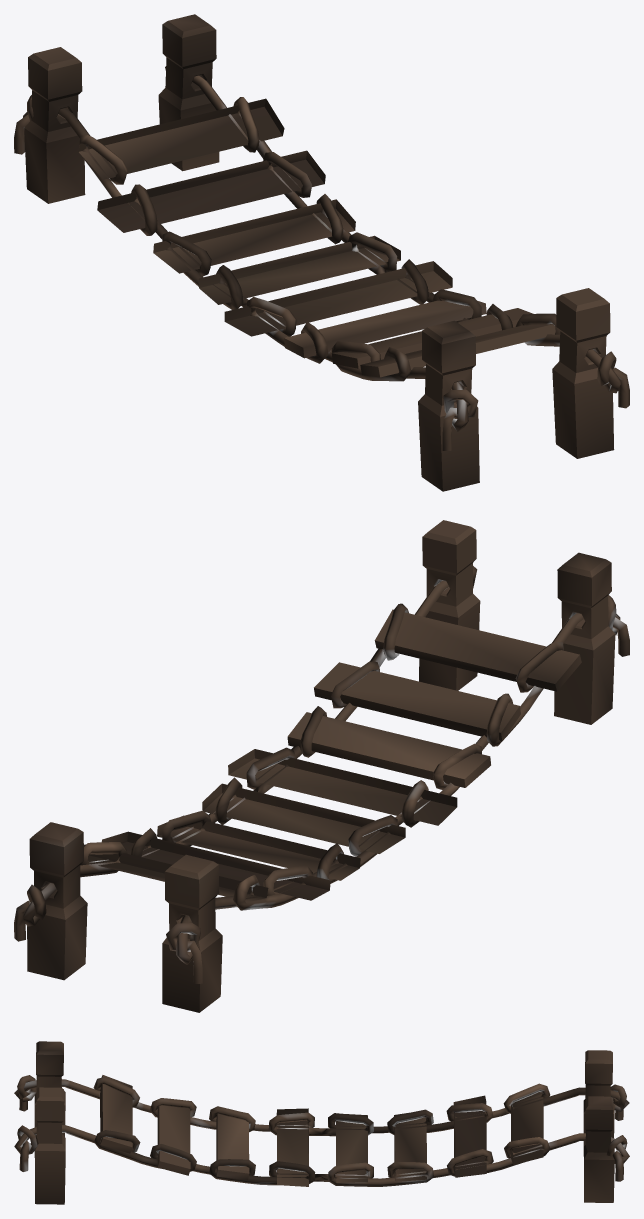
File: most_1.fbx
3 views of the same model, one above another, from view 1: azimuth 30°, elevation 25°; view 2: azimuth 150°, elevation 25°; view 3: azimuth 270°, elevation 25° (orthographic). The views are drawn at different scales.
Visible parts, largest first — view 1: Cube.034_Cube.029; view 2: Cube.034_Cube.029; view 3: Cube.034_Cube.029.
Part boxes in pixels (box(x1,y1,x2,y2)): Cube.034_Cube.029: box(14, 14, 629, 491); Cube.034_Cube.029: box(14, 520, 629, 1012); Cube.034_Cube.029: box(14, 1041, 629, 1204).
Size of the model in its own units: 265 by 183 by 964.
